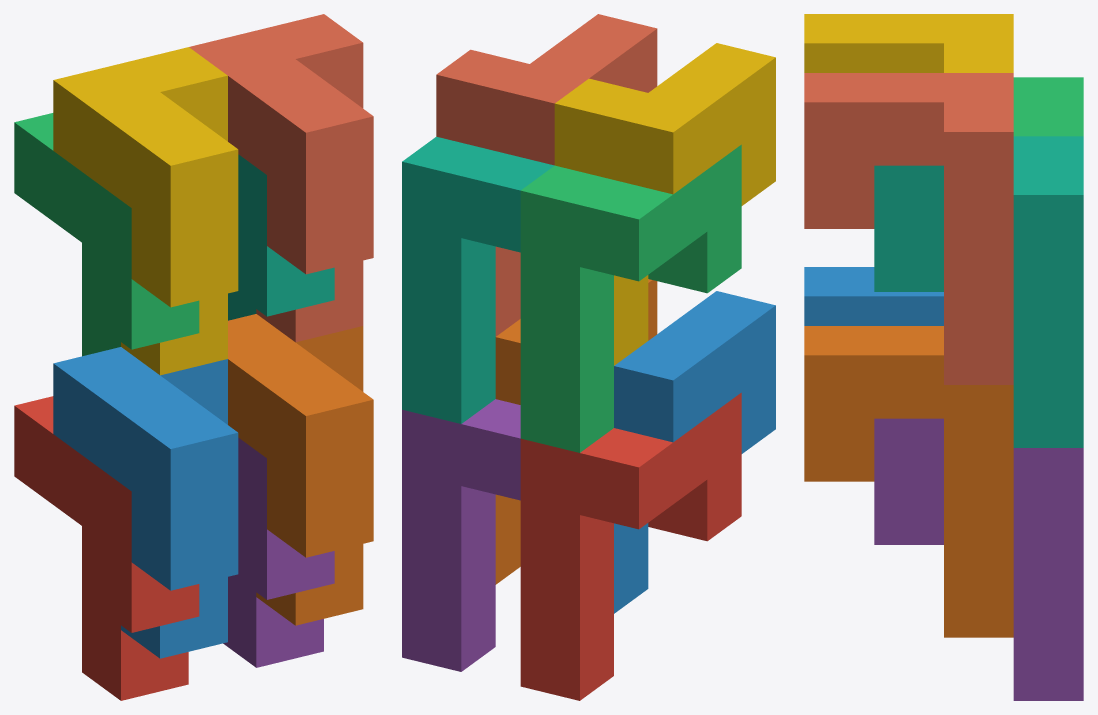
The model's file is tiling.obj.
3 views of the same model, side by side, from view 1: azimuth 30°, elevation 25°; view 2: azimuth 150°, elevation 25°; view 3: azimuth 270°, elevation 25° (orthographic). The views are drawn at different scales.
Visible parts, largest first — view 1: copy_1_domain_4, copy_1_domain_2, copy_1_domain_8, copy_1_domain_6, copy_1_domain_1, copy_1_domain_3, copy_1_domain_5, copy_1_domain_7; view 2: copy_1_domain_3, copy_1_domain_1, copy_1_domain_7, copy_1_domain_4, copy_1_domain_5, copy_1_domain_2, copy_1_domain_8, copy_1_domain_6; view 3: copy_1_domain_8, copy_1_domain_6, copy_1_domain_7, copy_1_domain_5, copy_1_domain_4, copy_1_domain_2, copy_1_domain_3.
Boxes of the visible parts, x1,y1,x2,y2 form: copy_1_domain_4: (53,47,238,375); copy_1_domain_2: (53,347,238,658); copy_1_domain_8: (189,14,373,342); copy_1_domain_6: (228,314,373,625); copy_1_domain_1: (14,396,199,700); copy_1_domain_3: (14,113,199,356); copy_1_domain_5: (223,437,334,667); copy_1_domain_7: (228,154,334,320); copy_1_domain_3: (520,144,741,452); copy_1_domain_1: (520,392,741,700); copy_1_domain_7: (402,136,554,423); copy_1_domain_4: (554,43,775,365); copy_1_domain_5: (402,399,520,671); copy_1_domain_2: (614,291,775,613); copy_1_domain_8: (436,14,657,336); copy_1_domain_6: (495,279,657,584); copy_1_domain_8: (804,73,1013,384); copy_1_domain_6: (804,326,1013,637); copy_1_domain_7: (874,136,1083,447); copy_1_domain_5: (874,418,1083,700); copy_1_domain_4: (804,14,1013,72); copy_1_domain_2: (804,267,943,325); copy_1_domain_3: (1013,77,1083,136).
Size of the model in its own units: 4 by 9 by 4.
